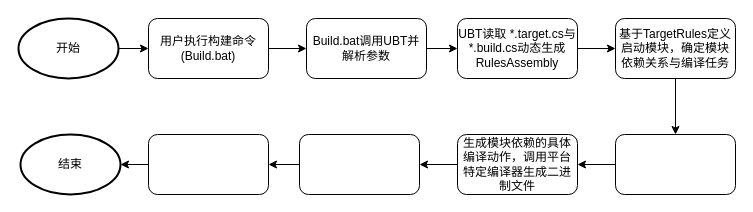
Image size: 753x212. Some labels were removed from this diagram. Here are the shapes that lost their labels. From the top down, the box of each, then its label:
(148, 134, 268, 194): 根据构建平台执行资源复制，程序签名与安装包创建
(298, 134, 420, 194): 链接启动模块与依赖模块
(614, 134, 736, 194): 调用UHT生成反射代码存储于Intermediate
